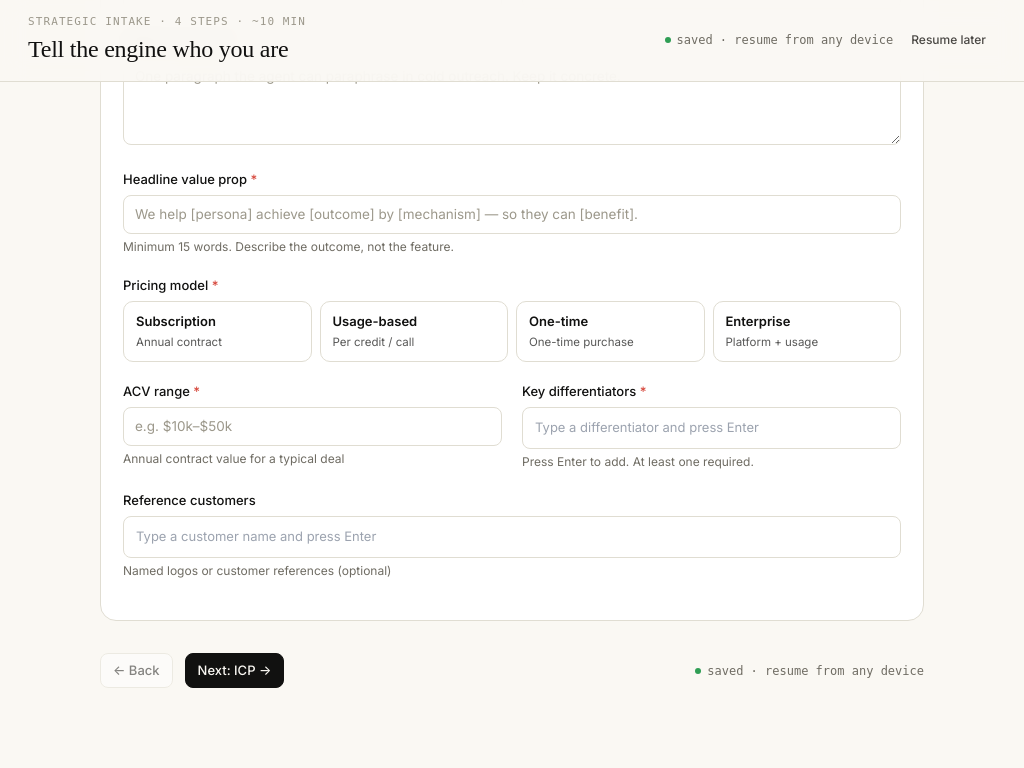
IntakeForm — navigation › shows validation errors when Next is clicked on empty Step 1
The width and height of the screenshot is (1024, 768).
(page scrolled)
Click the button "Next: ICP →".
click(234, 671)  # box [185,653,284,688]
(page scrolled)
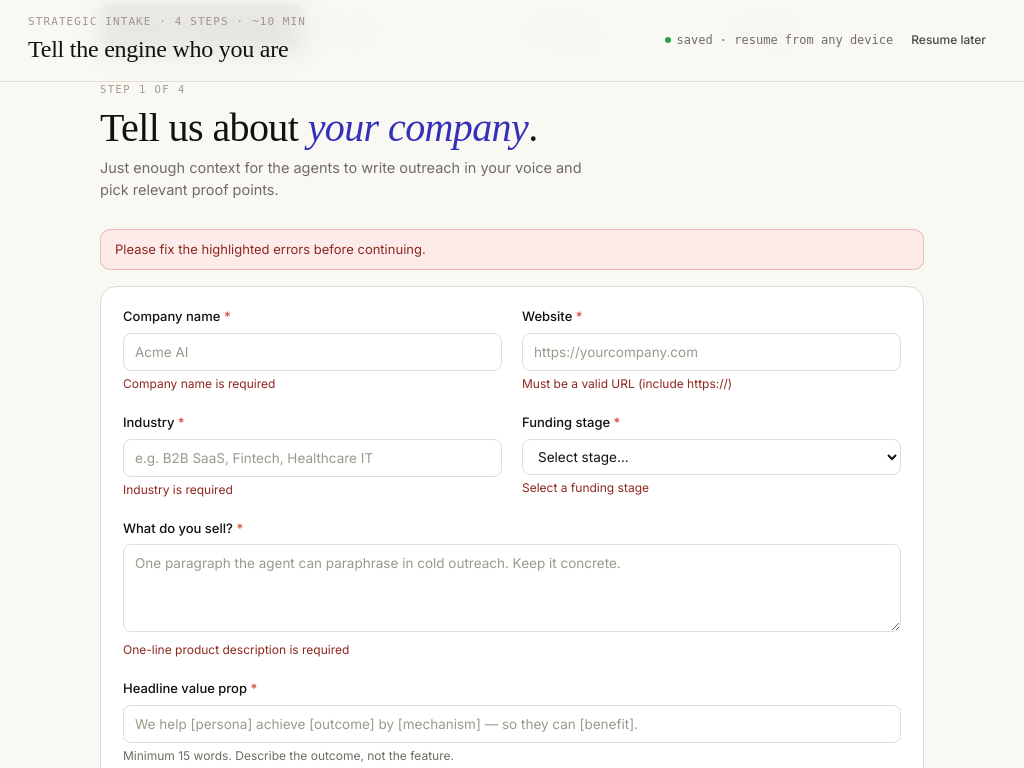
Check: the text "Company name is required" is shown, box [123,376,275,391]
